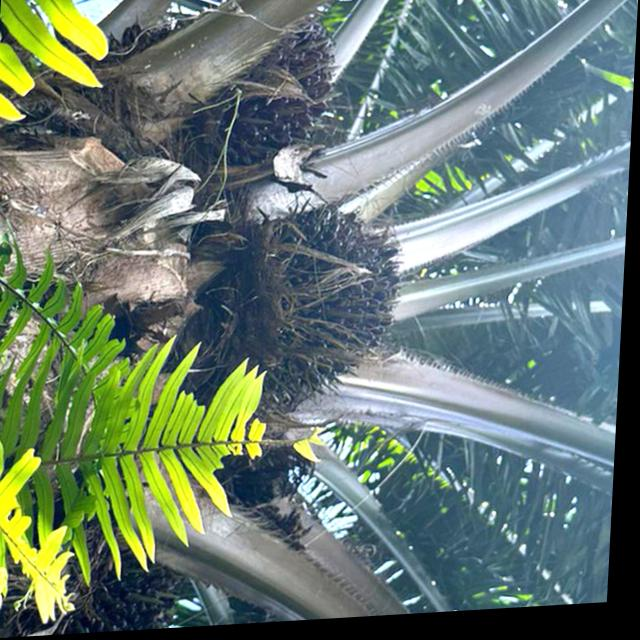unripe: (237, 195, 428, 410)
